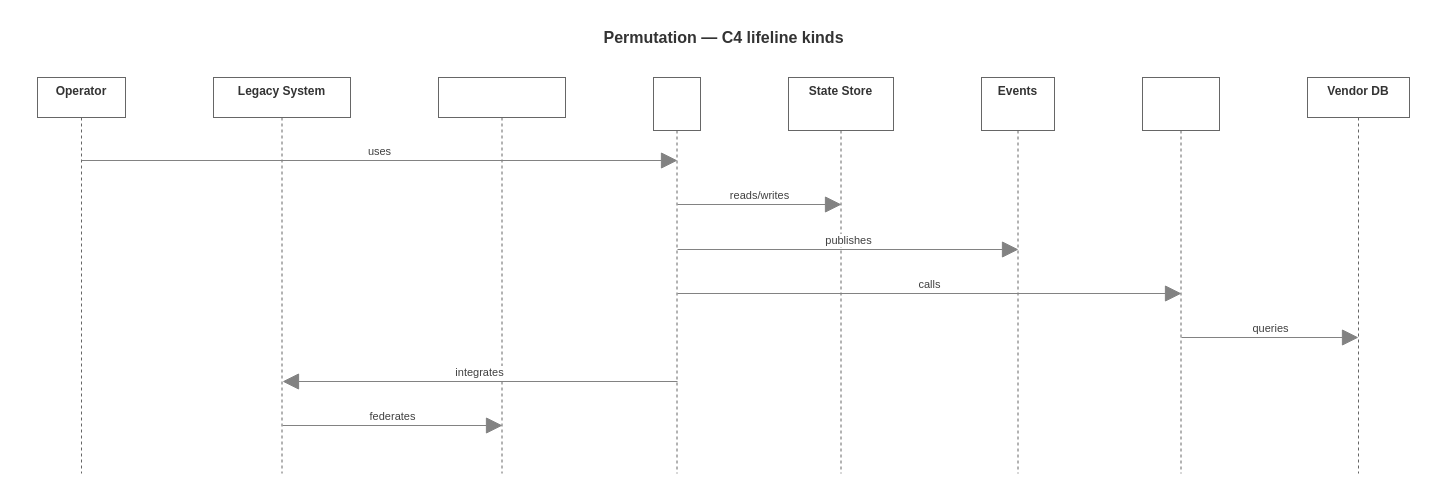
Image size: 1446x491. Some labels were removed from this diagram. Each missing label, with the box of its shape:
API: (652, 76, 700, 474)
External SaaS: (438, 76, 566, 474)
Service: (1142, 76, 1220, 474)
